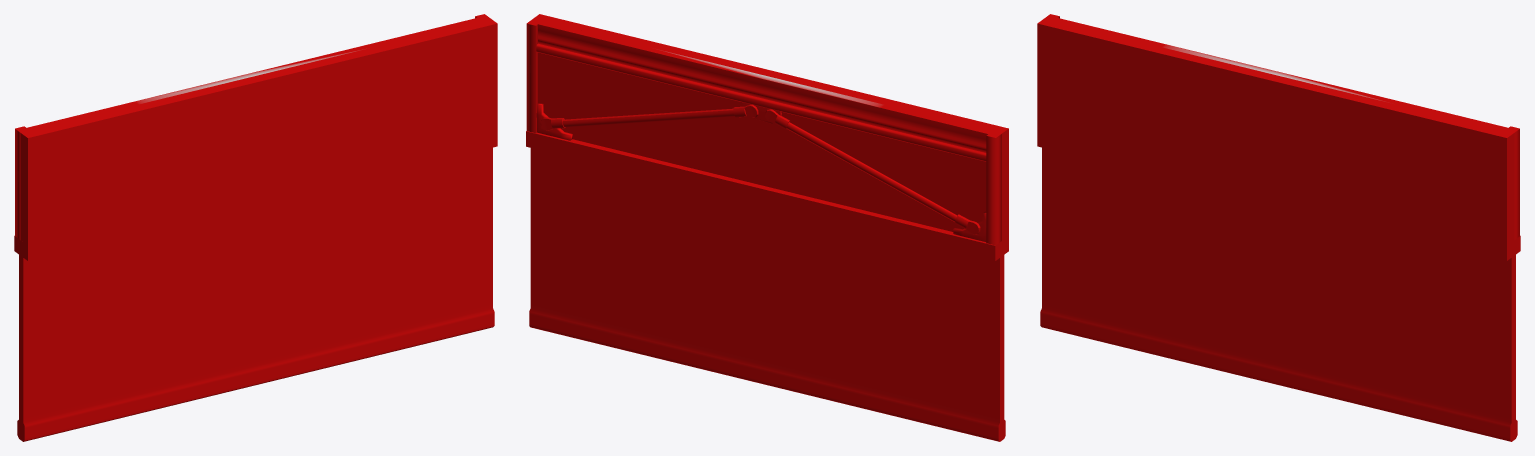
File: hangar.fbx
3 renders of one model, left to right at view 1: azimuth 30°, elevation 25°; view 2: azimuth 150°, elevation 25°; view 3: azimuth 330°, elevation 25°, orthographic.
Visible parts, largest first — view 1: AB_Hangar_Wall_Door_B; view 2: AB_Hangar_Wall_Door_B; view 3: AB_Hangar_Wall_Door_B.
Part boxes in pixels (x1,y1,x2,y2): AB_Hangar_Wall_Door_B: (14,14,497,441); AB_Hangar_Wall_Door_B: (526,14,1008,441); AB_Hangar_Wall_Door_B: (1037,14,1520,441).
Size of the model in its own units: 512 by 320 by 28.8.
